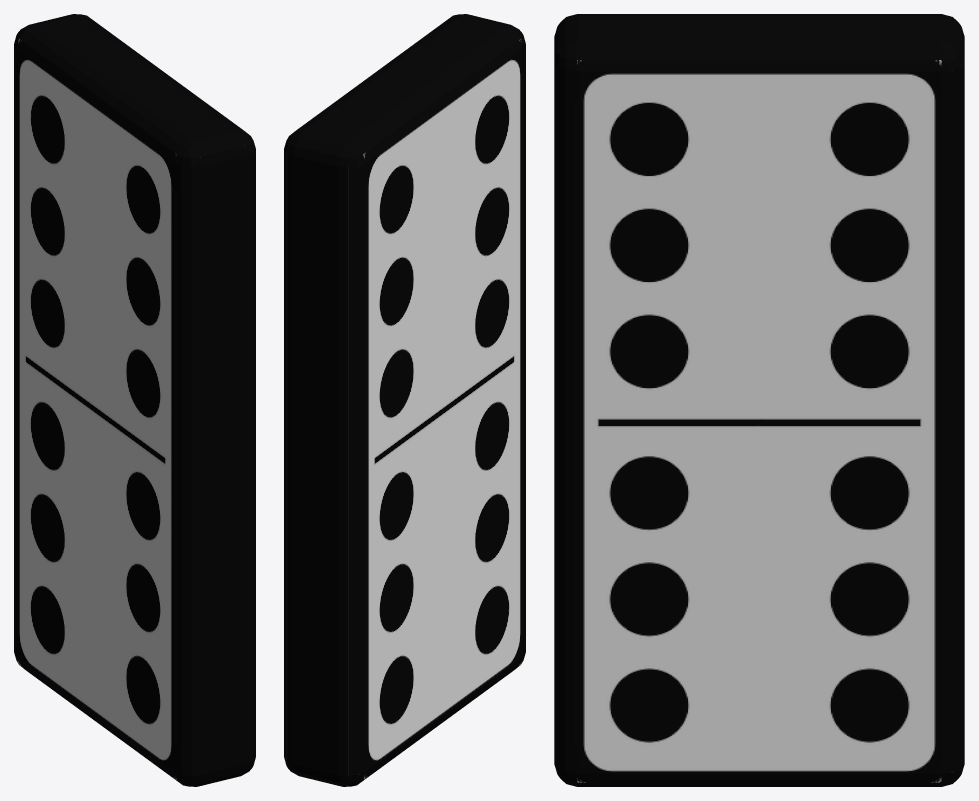
Rendered from domino2.obj.
3 views of the same model, side by side, from view 1: azimuth 30°, elevation 25°; view 2: azimuth 150°, elevation 25°; view 3: azimuth 270°, elevation 25° (orthographic). The views are drawn at different scales.
Parts seen in each view (by area): view 1: domino2; view 2: domino2; view 3: domino2.
Part boxes in pixels (x1=…): domino2: x1=14, y1=14, x2=255, y2=786; domino2: x1=284, y1=14, x2=525, y2=786; domino2: x1=554, y1=14, x2=964, y2=786.
Size of the model in its own units: 0.2563 by 2 by 1.
Materials: 1 (1 with a texture image).
